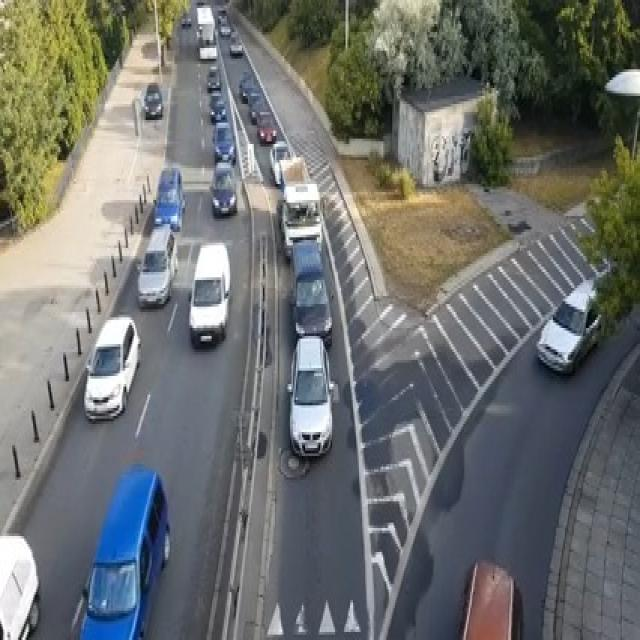car: (76, 464, 170, 637), (535, 256, 617, 373), (83, 315, 141, 421), (286, 333, 334, 459), (454, 558, 523, 638), (288, 240, 332, 344), (188, 240, 230, 347), (0, 534, 41, 638), (135, 224, 177, 307), (280, 181, 322, 259), (153, 166, 185, 230), (209, 160, 236, 216), (212, 120, 236, 163), (269, 139, 290, 184), (140, 83, 162, 117), (195, 3, 215, 40), (256, 109, 276, 144), (197, 24, 216, 59), (209, 90, 225, 122), (239, 72, 255, 101), (249, 96, 266, 123), (206, 64, 221, 91), (228, 37, 244, 56), (219, 18, 230, 34), (180, 13, 191, 27), (230, 24, 237, 37), (195, 0, 204, 5)
